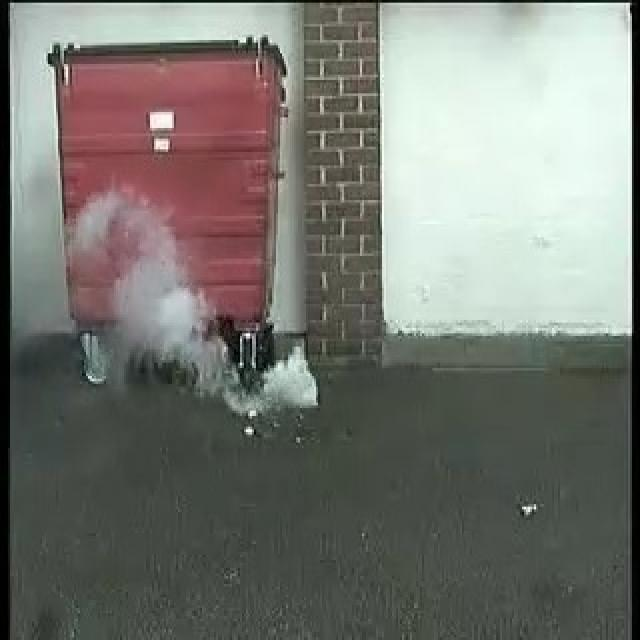smoke: (109, 221, 315, 407)
